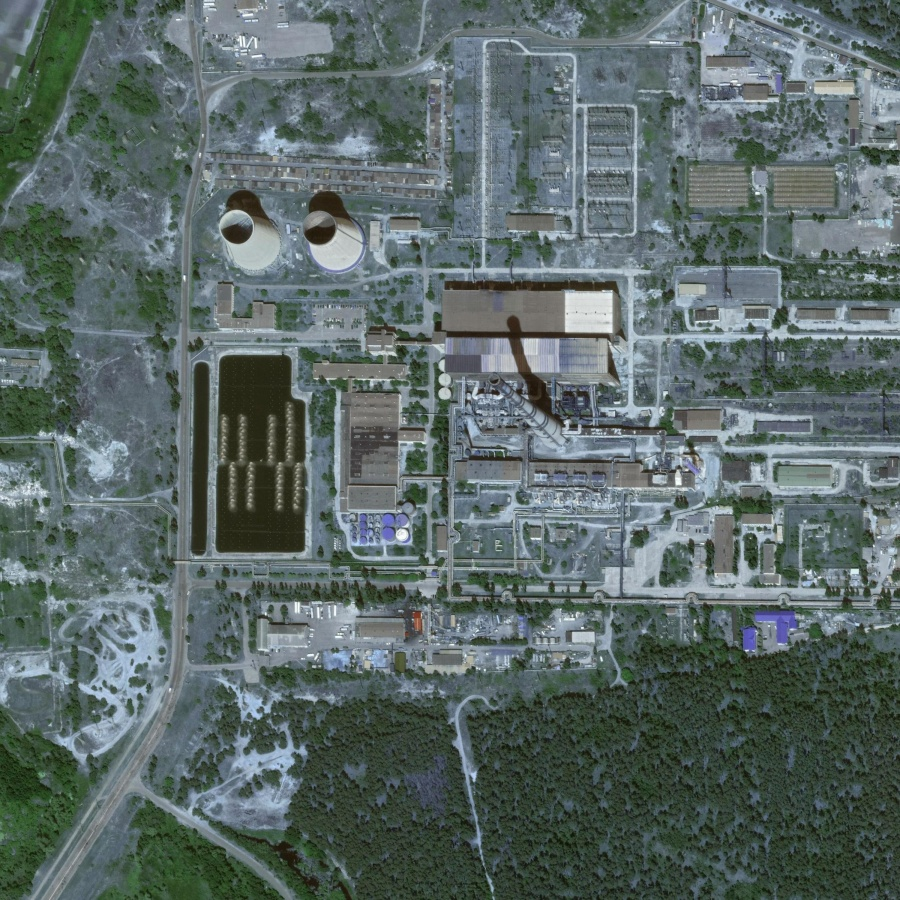PowerPlant: (180, 167, 633, 567)
